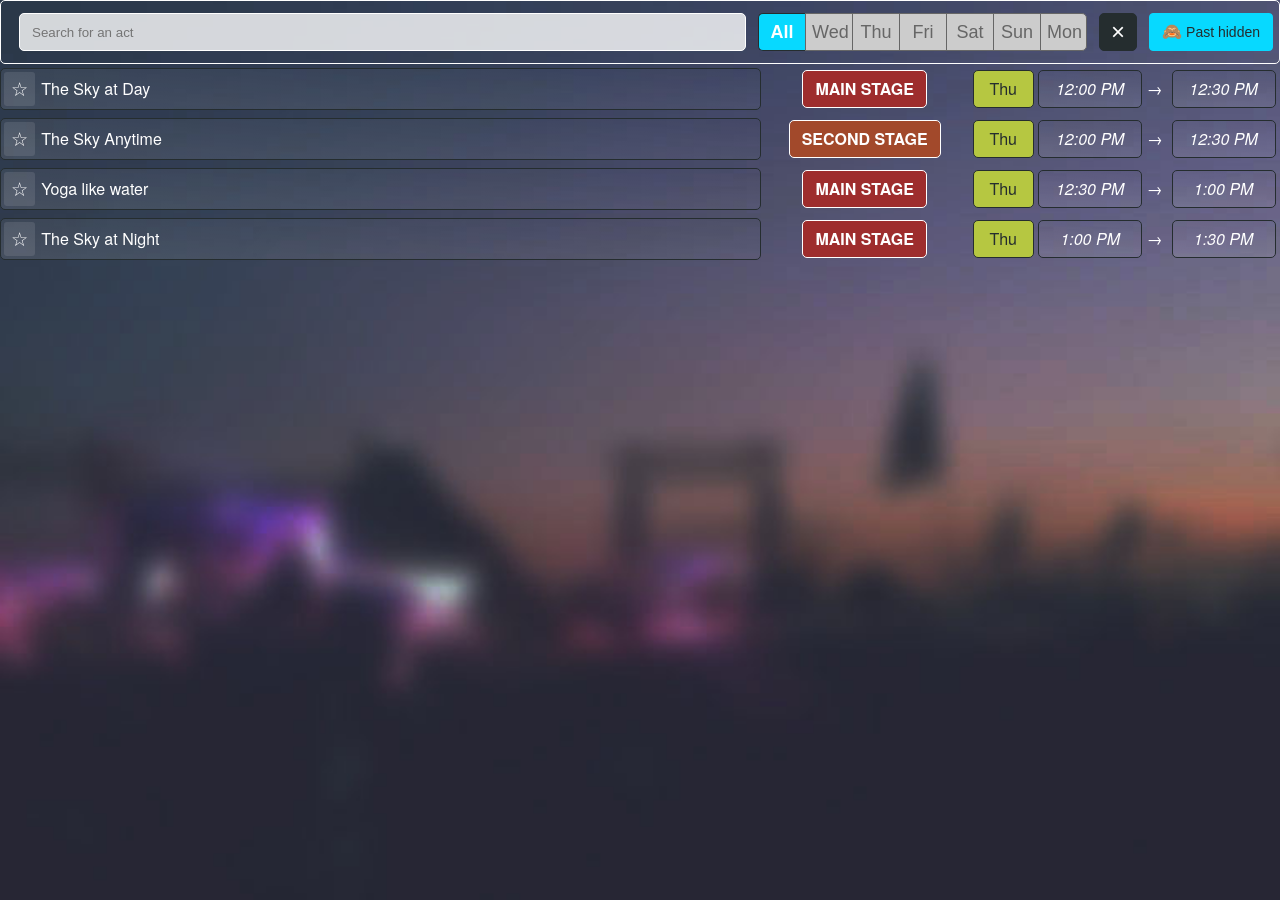
Test case: Acts component › should clear search input when clear button is clicked
Type "Yoga like water" into the field labelled "Search for an act".
click(383, 32); type("Yoga like water")  # box [19, 13, 746, 51]
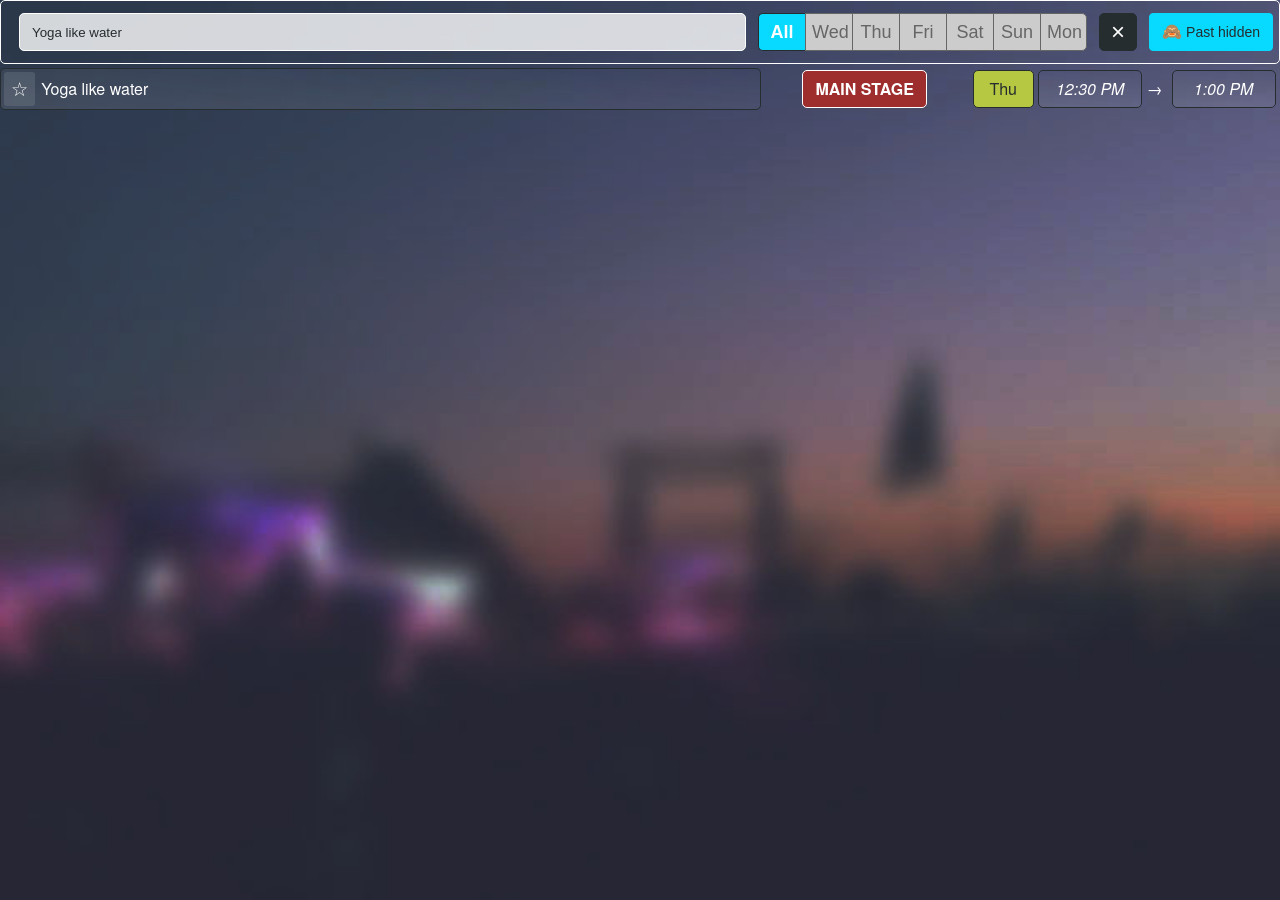
Click the button "×".
click(1118, 32)  # box [1099, 13, 1137, 51]
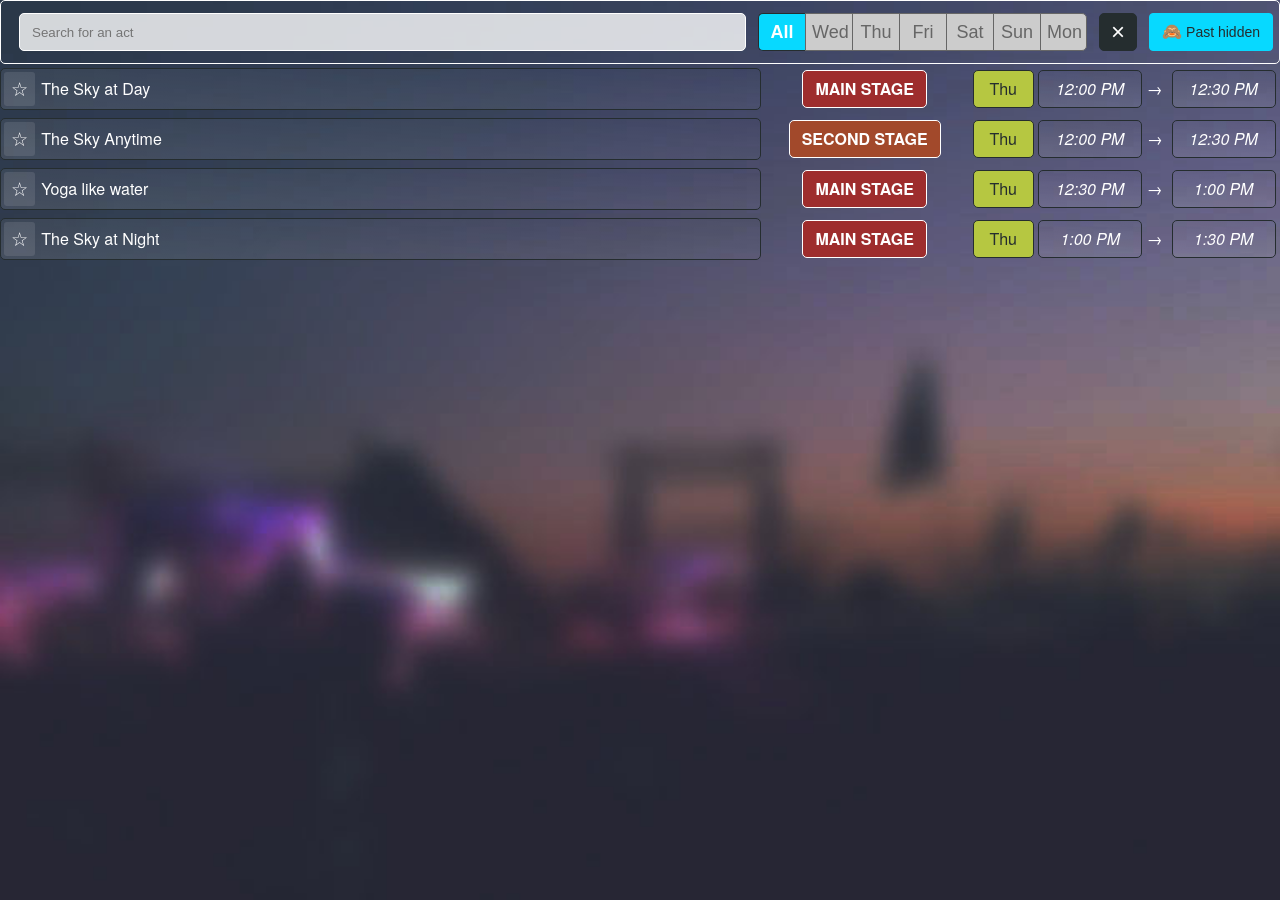
Result: the field labelled "Search for an act" is empty at [19, 13, 746, 51]
